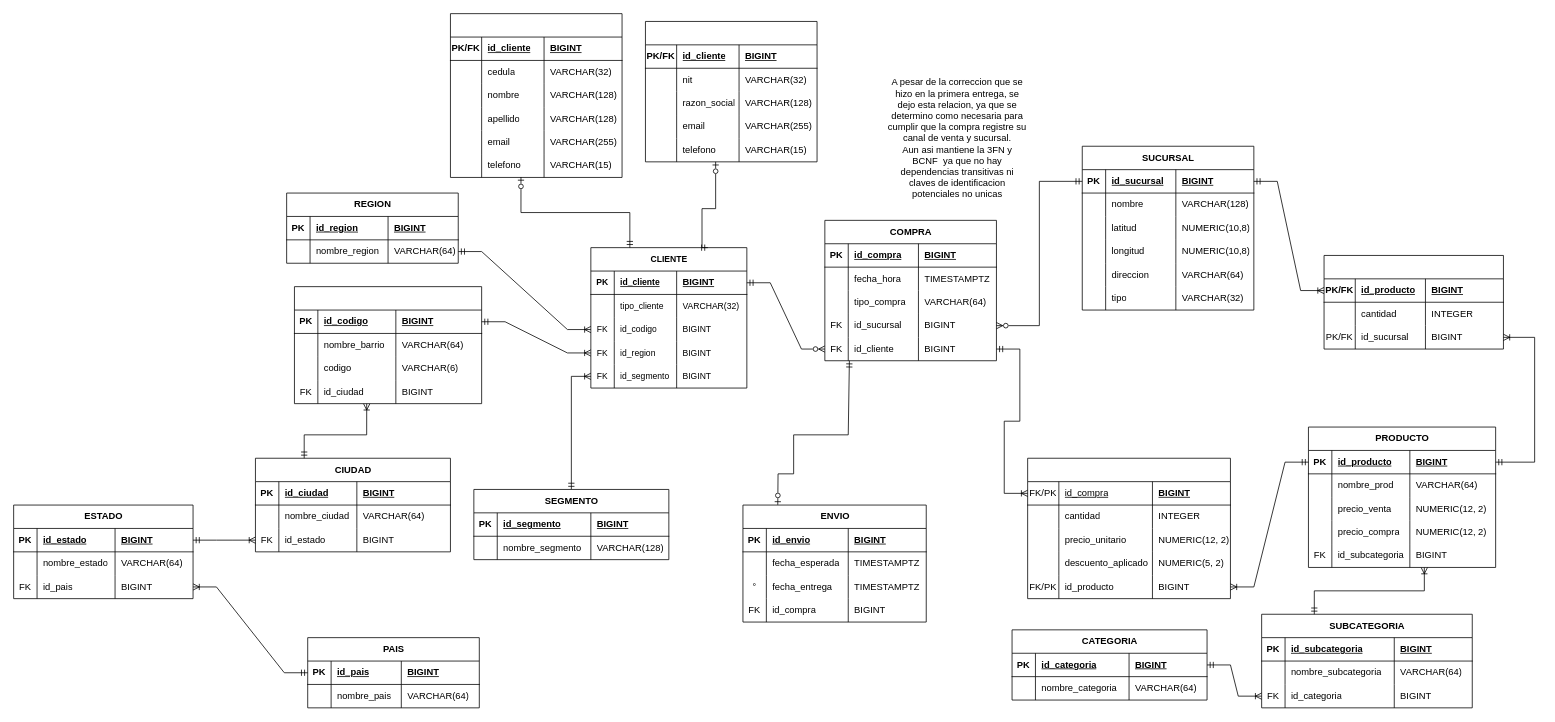
Some shapes in this 1555 by 722 pixel diagram are drawn without their labels. Each missing label, with the box of its shape:
CLIENTE_CORP: (645, 21, 817, 162)
CLIENTE_NAT: (450, 13, 622, 177)
CODIGO POSTAL: (294, 286, 482, 404)
DETALLE COMPRA: (1027, 457, 1230, 599)
INVENTARIO: (1323, 255, 1503, 349)
